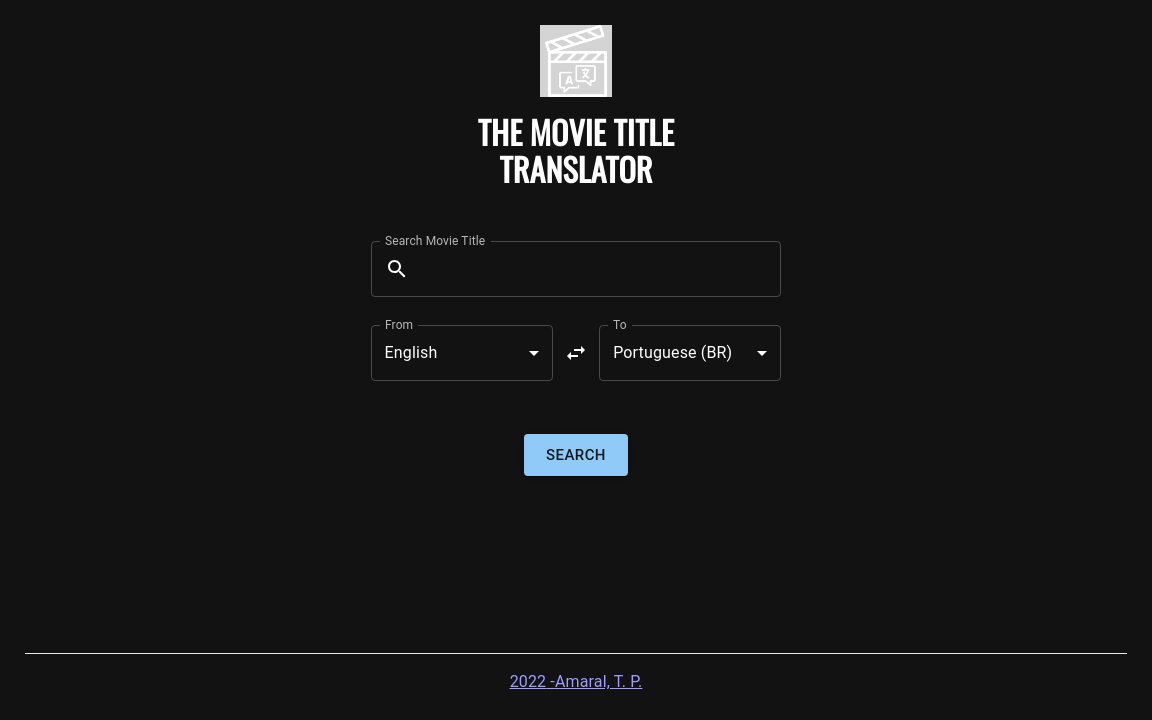
Test: basic functionalities › no empty search
Click the button with id "search-btn": (576, 455) top-left (524, 434), bottom-right (628, 476)
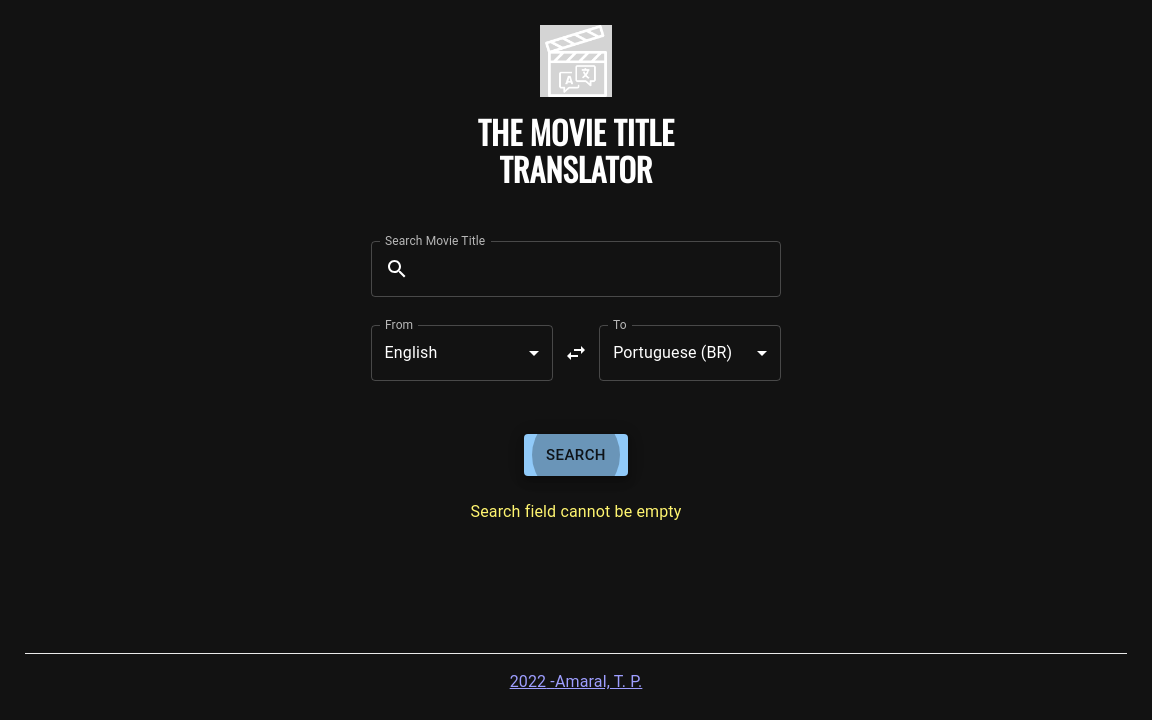
Result: the text with id "warning-message" reads "Search field cannot be empty" at top-left (471, 502), bottom-right (682, 521)
